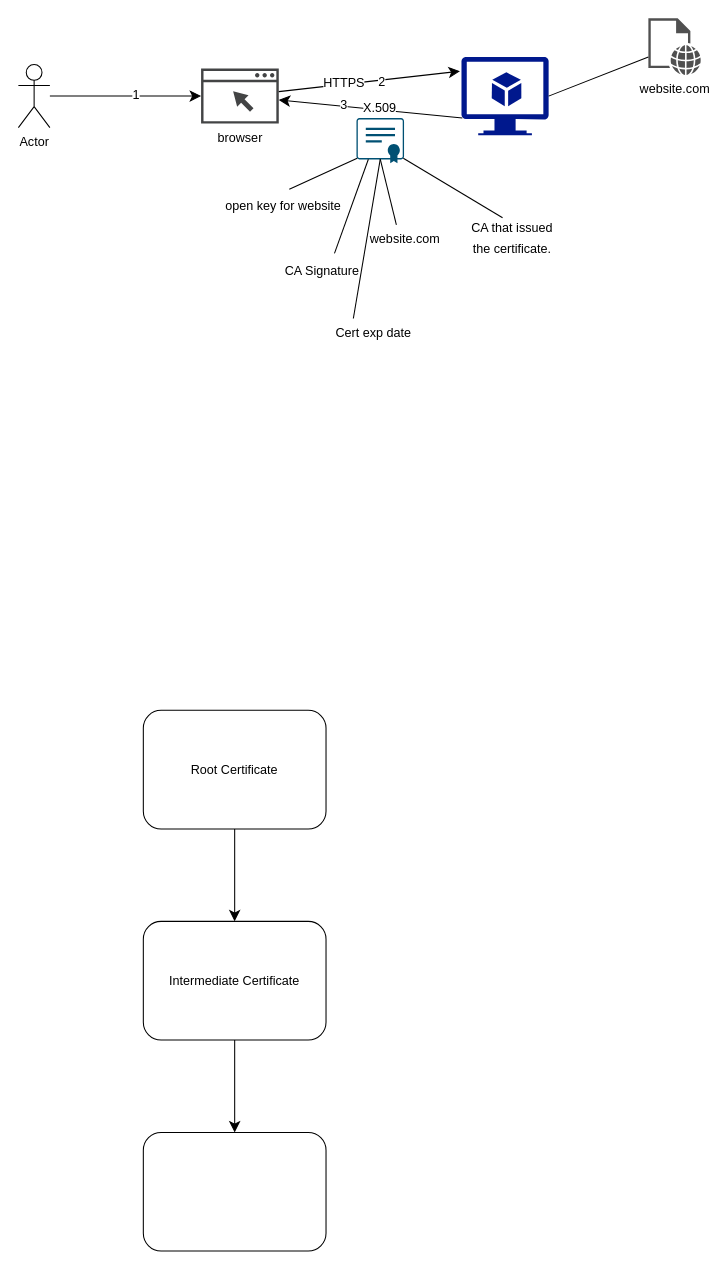
The diagram is 728 pixels wide and 1269 high, and some of its shapes have lost their labels. The shapes that lost their labels are listed below. From the top down, each one's centre as x and y in pixels, then its label:
At [504,95]: "Server".
At [234,1191]: "SSL Certificate".
